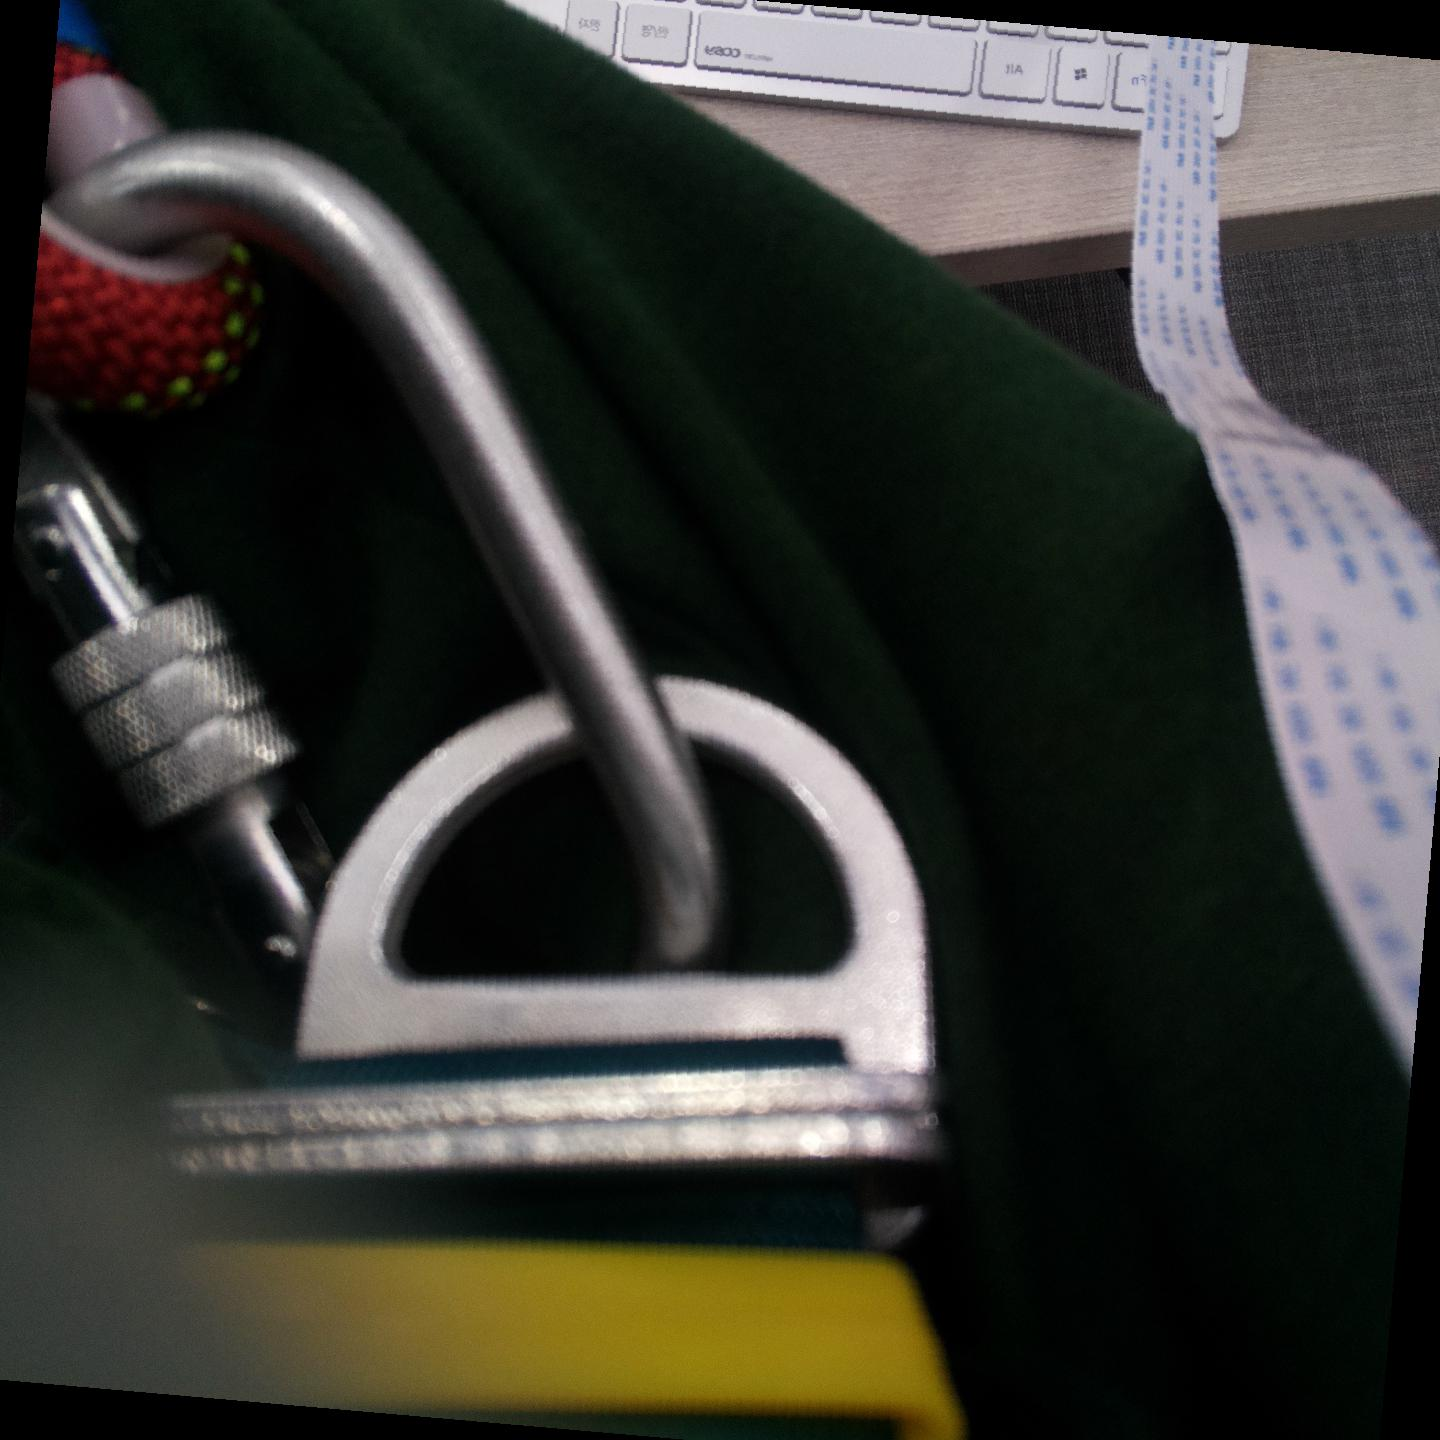SUCCESS: (32, 525, 314, 920)
